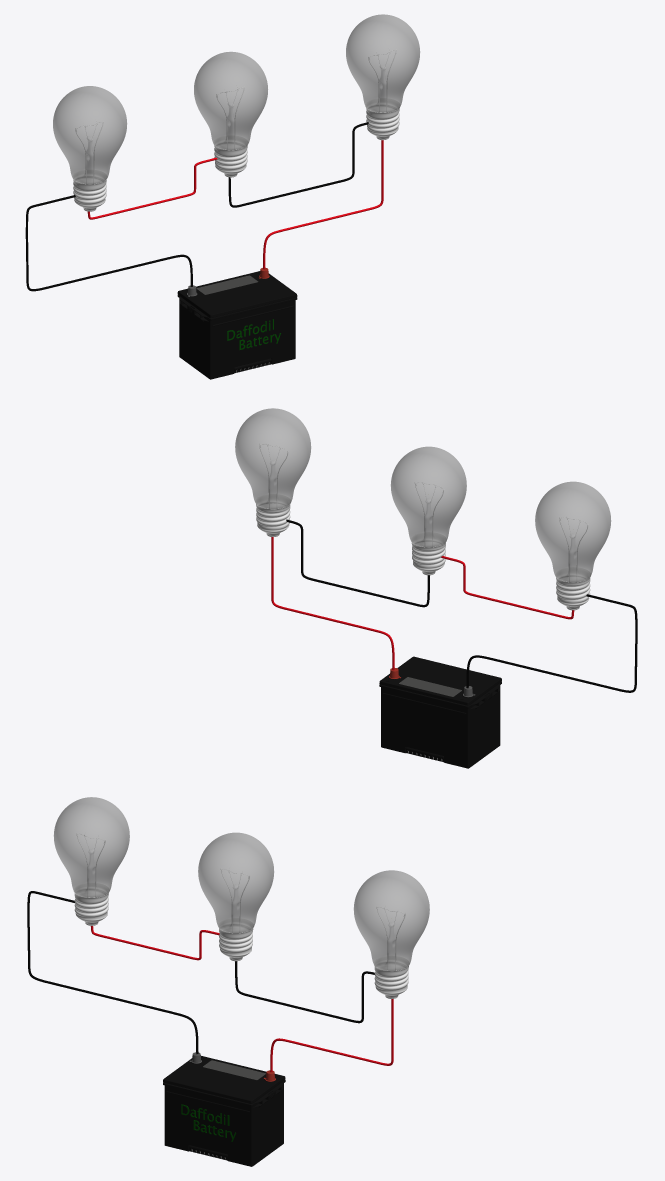
Rendered from Series connection.glb.
The picture shows the model from 3 angles, top to bottom: view 1: azimuth 30°, elevation 25°; view 2: azimuth 150°, elevation 25°; view 3: azimuth 330°, elevation 25°; orthographic projection. The views are drawn at different scales.
Parts seen in each view (by area): view 1: Battery, Bulb3, Bulb1, Bulb2, sweep86, sweep87, sweep85; view 2: Battery, Bulb3, Bulb1, Bulb2, sweep86, sweep85, sweep87; view 3: Battery, Bulb1, Bulb3, Bulb2, sweep86, sweep85, sweep87.
Boxes of the visible parts, bbox=[...] form: Battery: bbox=[177, 267, 297, 379]; Bulb3: bbox=[53, 86, 127, 211]; Bulb1: bbox=[346, 14, 420, 140]; Bulb2: bbox=[194, 51, 267, 177]; sweep86: bbox=[25, 195, 192, 291]; sweep87: bbox=[263, 140, 383, 269]; sweep85: bbox=[228, 122, 368, 207]; Battery: bbox=[379, 656, 501, 768]; Bulb3: bbox=[535, 481, 611, 610]; Bulb1: bbox=[235, 408, 311, 536]; Bulb2: bbox=[390, 446, 466, 575]; sweep86: bbox=[466, 594, 637, 692]; sweep85: bbox=[286, 519, 429, 607]; sweep87: bbox=[271, 537, 394, 670]; Battery: bbox=[163, 1052, 285, 1166]; Bulb1: bbox=[353, 870, 429, 998]; Bulb3: bbox=[53, 797, 129, 925]; Bulb2: bbox=[198, 832, 274, 961]; sweep86: bbox=[27, 891, 198, 1054]; sweep85: bbox=[235, 961, 374, 1023]; sweep87: bbox=[270, 999, 393, 1072].
Bounding box in the file's own units: 6.31 × 2.83 × 0.7716.
